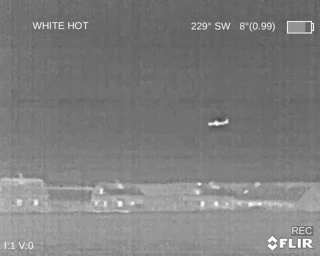AIRPLANE: (206, 118, 229, 128)
